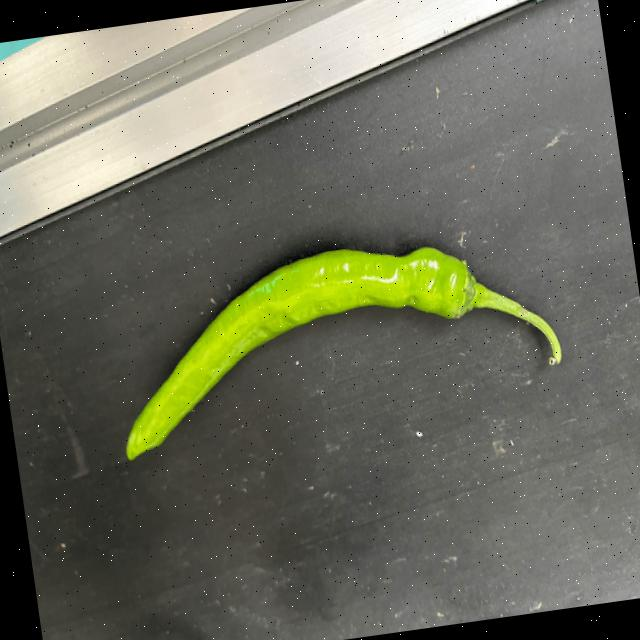chili: (122, 242, 478, 463)
